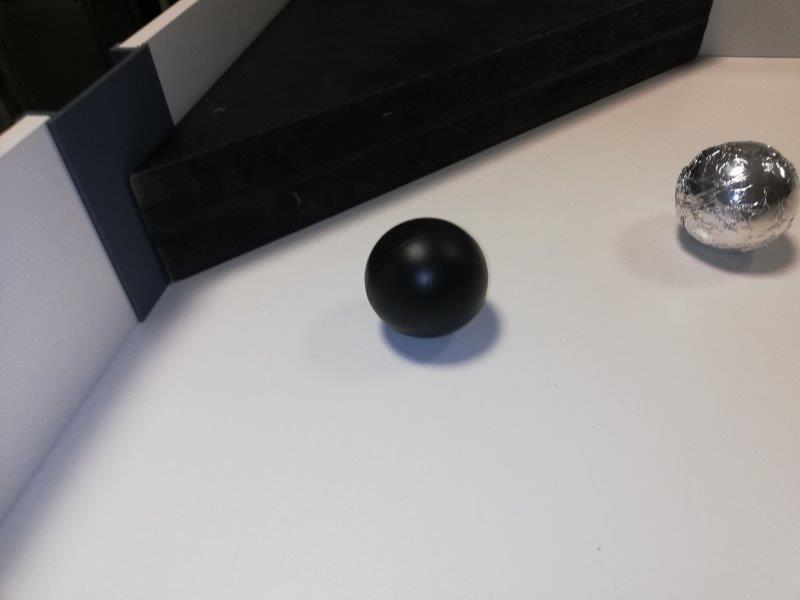bianca: (674, 140, 799, 256)
nera: (364, 218, 493, 338)
